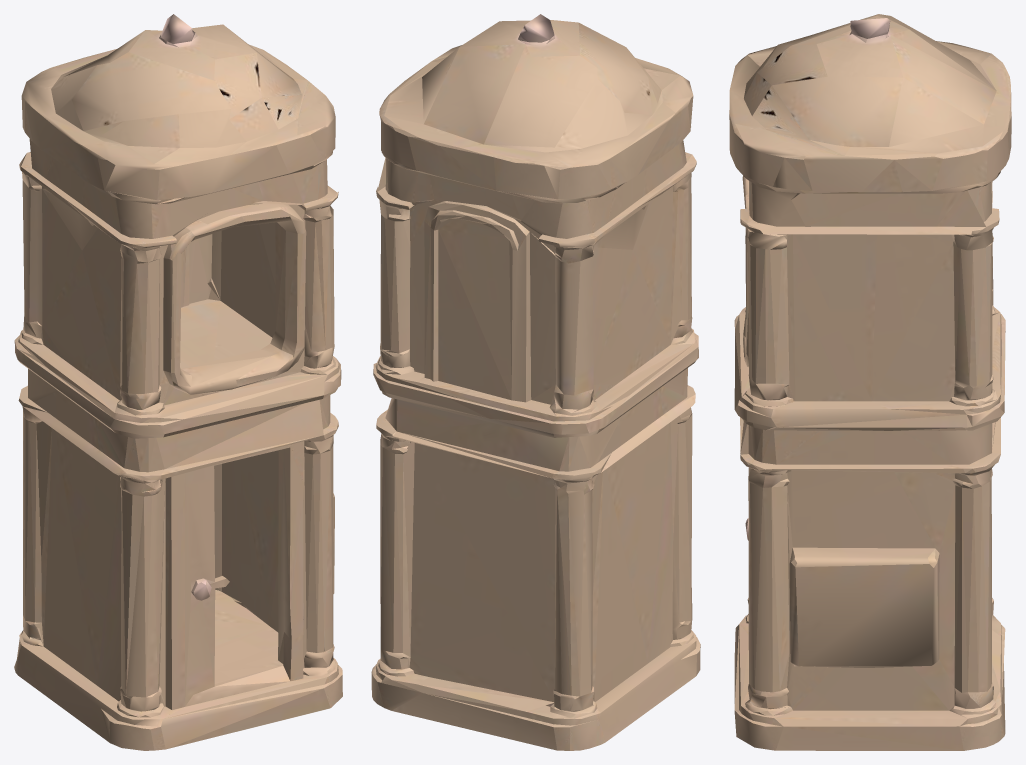
The model's file is lift.6a0fbee0.glb.
3 renders of one model, left to right at view 1: azimuth 30°, elevation 25°; view 2: azimuth 150°, elevation 25°; view 3: azimuth 270°, elevation 25°, orthographic. The views are drawn at different scales.
Visible parts, largest first — view 1: output_unwrapped; view 2: output_unwrapped; view 3: output_unwrapped.
Boxes of the visible parts, bbox=[...] form: output_unwrapped: bbox=[14, 14, 342, 750]; output_unwrapped: bbox=[371, 14, 700, 750]; output_unwrapped: bbox=[729, 14, 1011, 750].
Bounding box in the file's own units: 0.7155 × 1.89 × 0.7123.
Materials: 1 (1 with a texture image).
